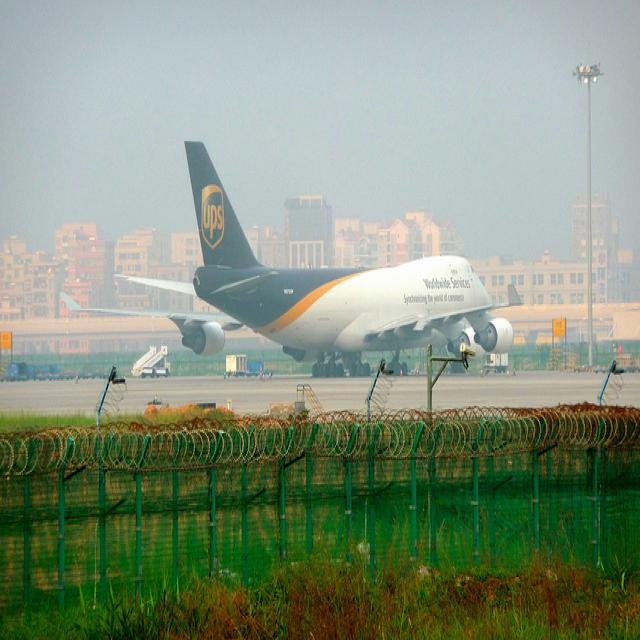Vehicle: (223, 351, 262, 377), (140, 367, 169, 378)
